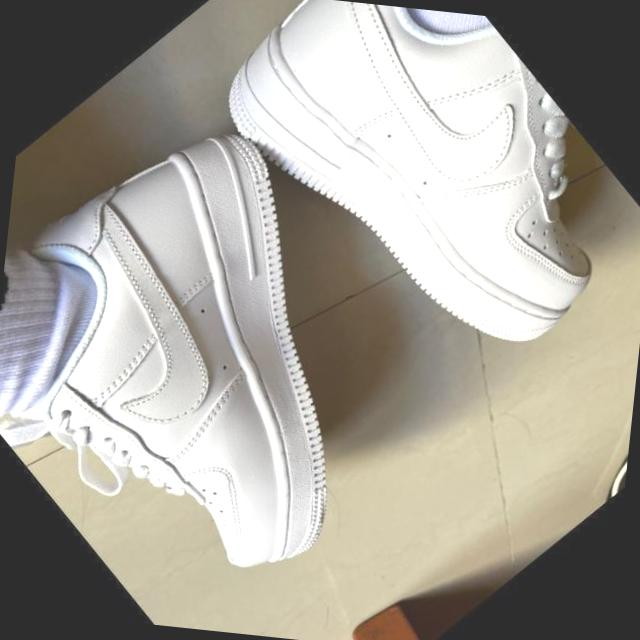nike_original_airforce: (0, 66, 505, 640), (158, 0, 640, 423)
